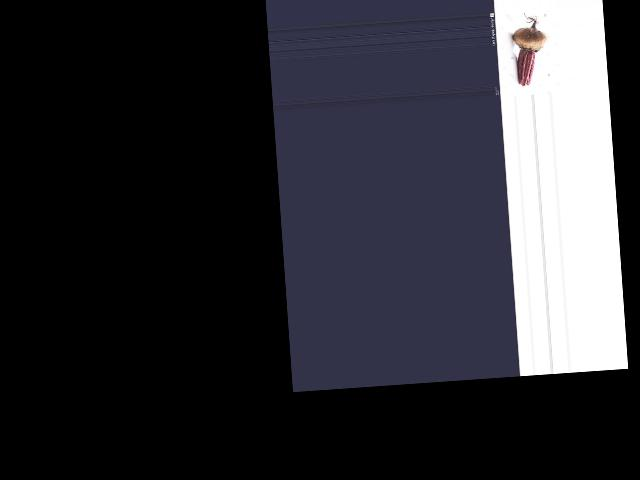beet: (511, 11, 549, 86)
